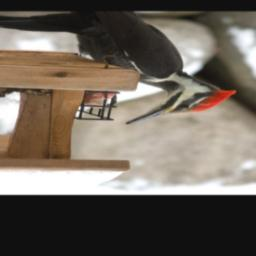Woodpecker: (0, 12, 253, 125)
